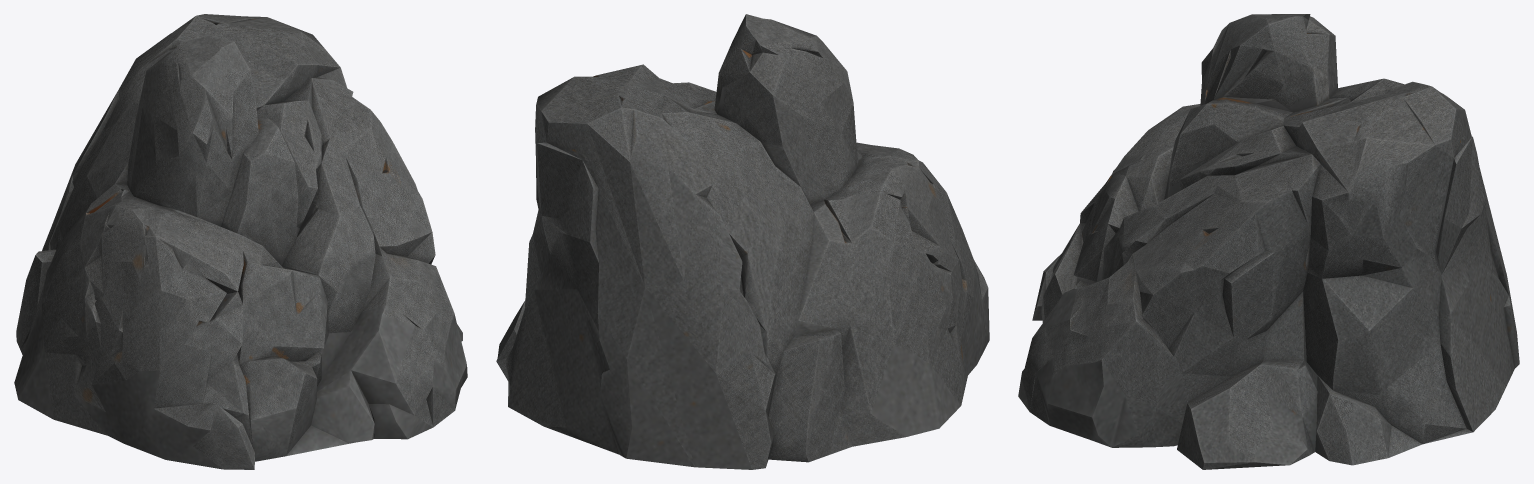
Rendered from stone.glb.
The picture shows the model from 3 angles, left to right: view 1: azimuth 30°, elevation 25°; view 2: azimuth 150°, elevation 25°; view 3: azimuth 270°, elevation 25°; orthographic projection. The views are drawn at different scales.
Bounding box in the file's own units: 1.85 × 1.44 × 1.9.
Materials: 1 (1 with a texture image).
